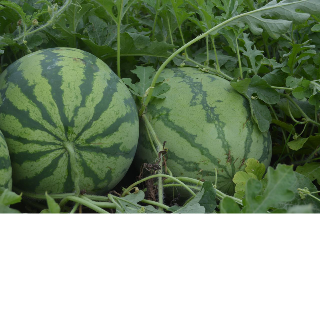dua_hau: (1, 41, 141, 200), (132, 64, 272, 198)
